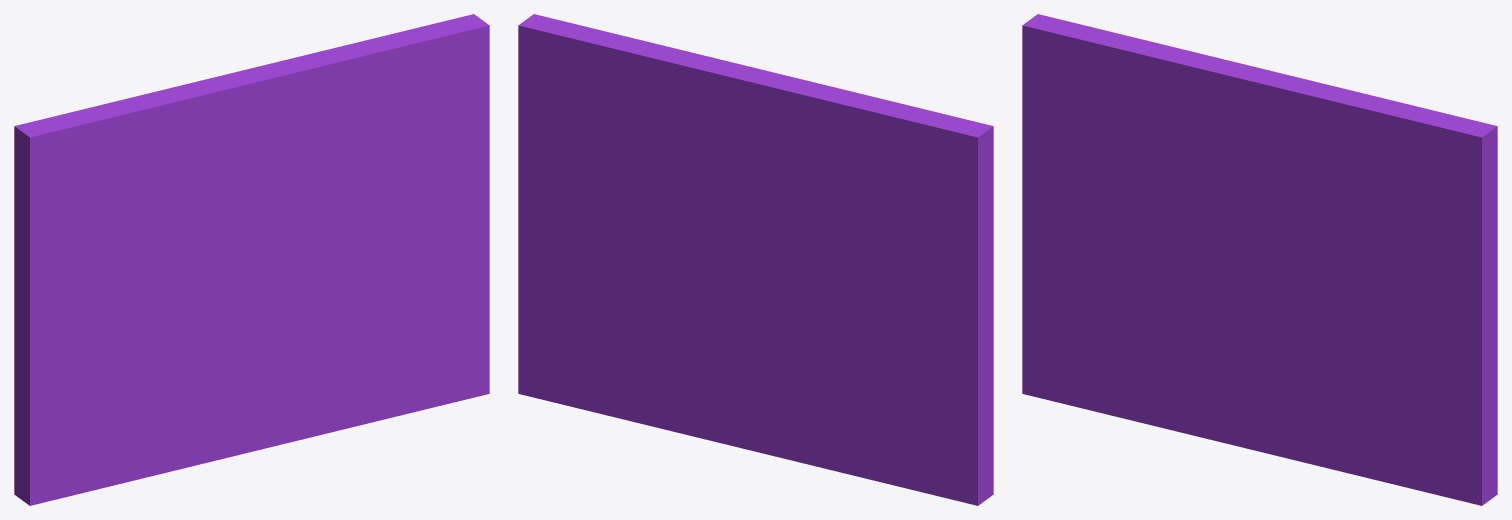
File: Barrier_208_chunks.fbx
3 renders of one model, left to right at view 1: azimuth 30°, elevation 25°; view 2: azimuth 150°, elevation 25°; view 3: azimuth 330°, elevation 25°, orthographic.
Parts seen in each view (by area): view 1: Barrier_208_1, Barrier_208_3, Barrier_208_2, Barrier_208_0; view 2: Barrier_208_1, Barrier_208_2, Barrier_208_0, Barrier_208_3; view 3: Barrier_208_1, Barrier_208_3, Barrier_208_2, Barrier_208_0.
Part boxes in pixels (x1,y1,x2,y2): Barrier_208_1: [262, 14, 489, 422]; Barrier_208_3: [14, 84, 288, 355]; Barrier_208_2: [14, 275, 369, 505]; Barrier_208_0: [114, 43, 354, 180]; Barrier_208_1: [518, 14, 739, 420]; Barrier_208_2: [630, 271, 993, 505]; Barrier_208_0: [637, 49, 879, 276]; Barrier_208_3: [777, 73, 993, 344]; Barrier_208_1: [1254, 97, 1497, 505]; Barrier_208_3: [1022, 14, 1280, 275]; Barrier_208_2: [1022, 243, 1362, 476]; Barrier_208_0: [1137, 38, 1377, 194].
Bounding box in the file's own units: 376 × 288 × 22.1.
